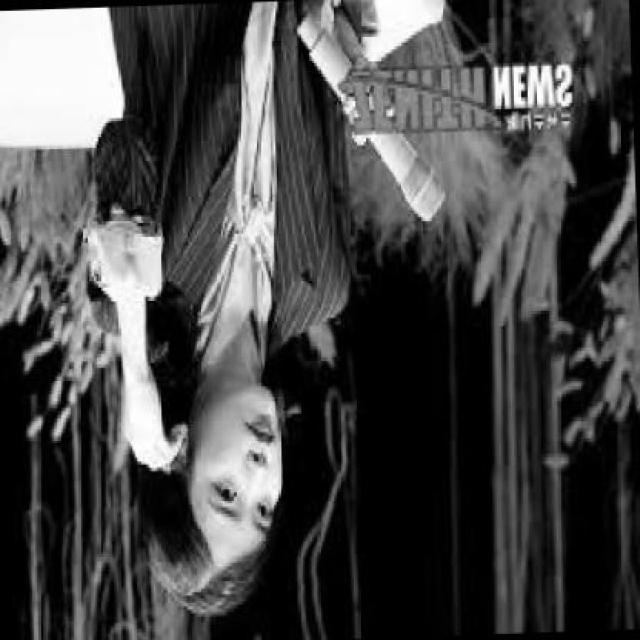earphone: (174, 428, 192, 470)
